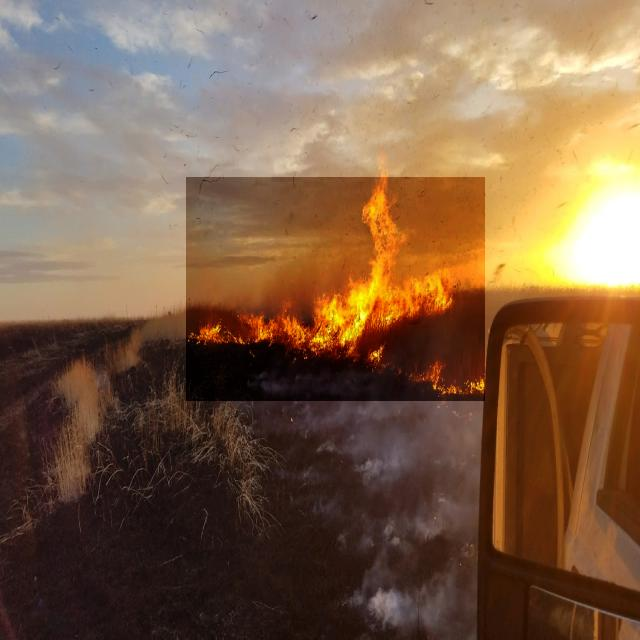Fire: (186, 177, 485, 401)
